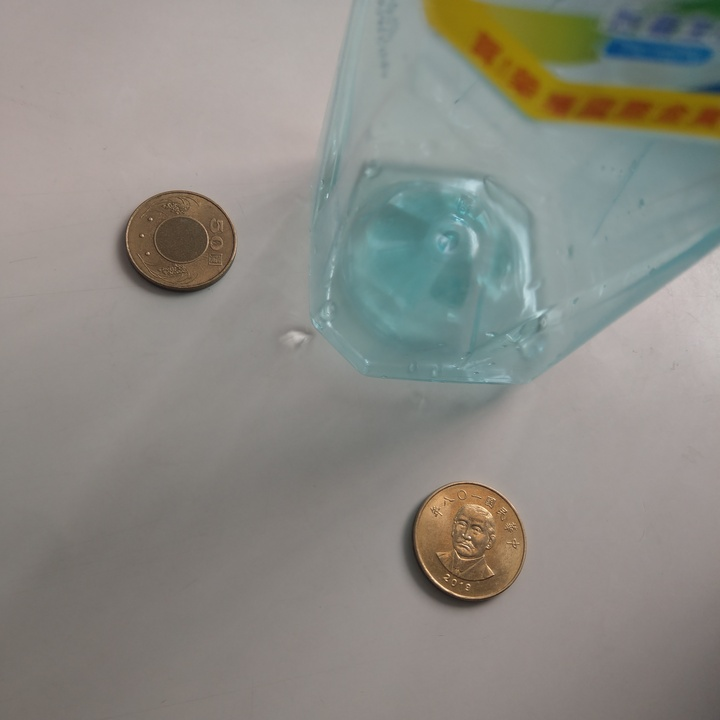50 dollar: (412, 480, 528, 607), (119, 188, 241, 298)
